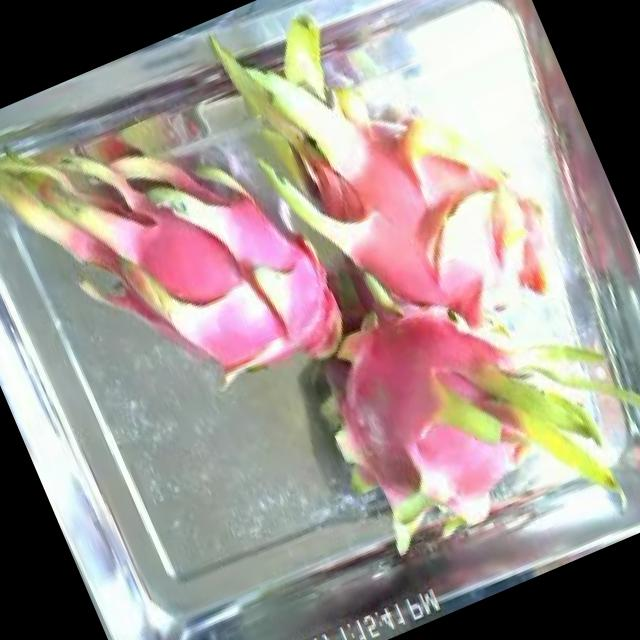Fruit: (110, 162, 268, 338)
